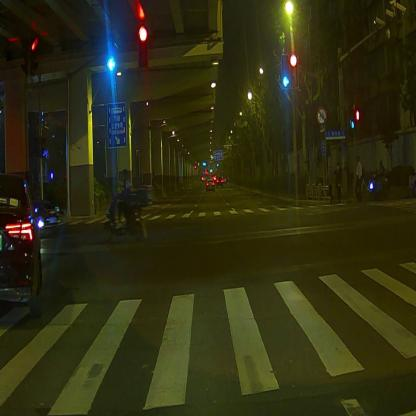Red Light: (138, 25, 149, 68), (289, 53, 297, 90)
